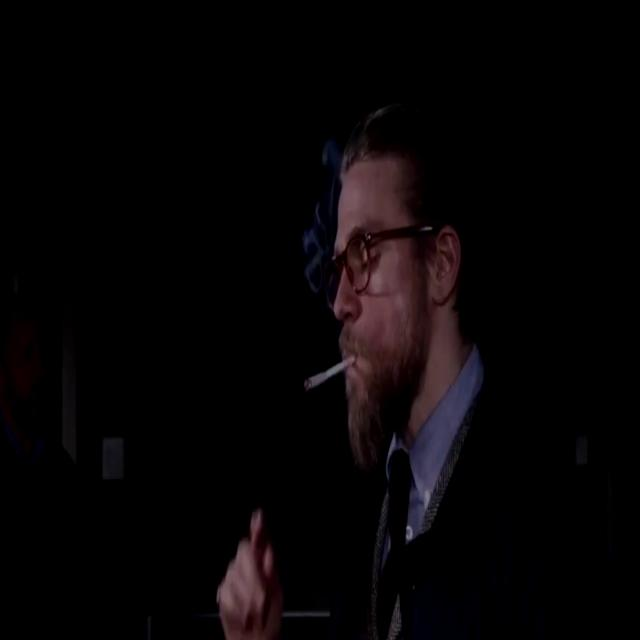Smooking: (304, 345, 357, 391)
